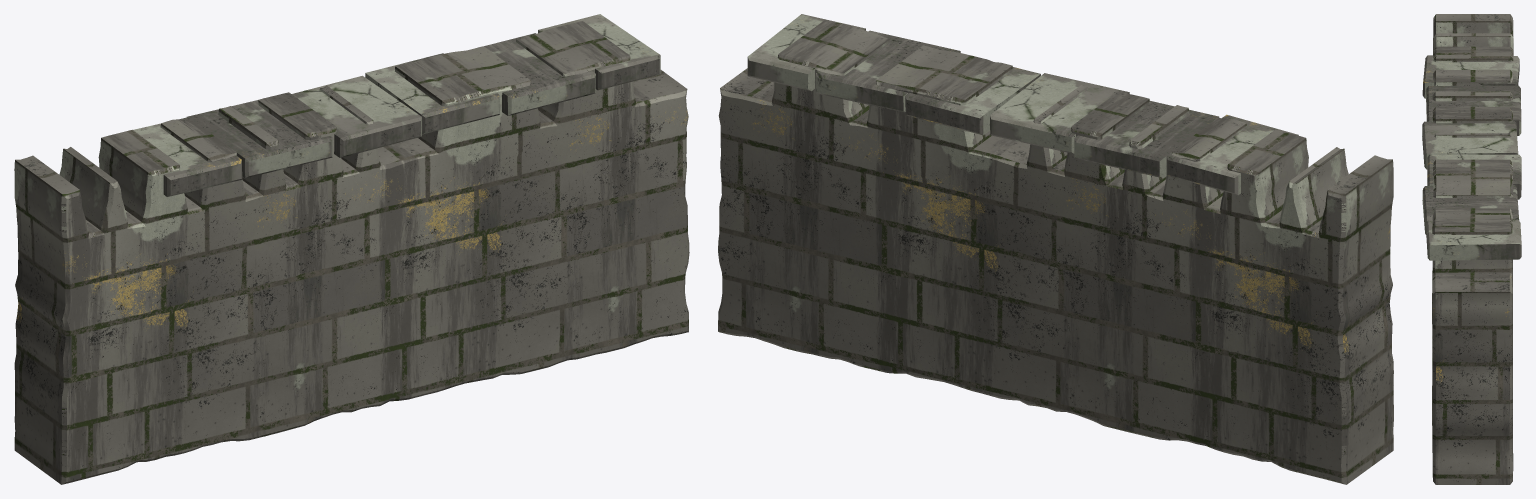
File: Wall_A.gltf
3 renders of one model, left to right at view 1: azimuth 30°, elevation 25°; view 2: azimuth 150°, elevation 25°; view 3: azimuth 270°, elevation 25°, orthographic. The views are drawn at different scales.
Parts seen in each view (by area): view 1: Wall_A; view 2: Wall_A; view 3: Wall_A.
Part boxes in pixels (box(x1,y1,x2,y2)): Wall_A: box(14, 14, 689, 484); Wall_A: box(718, 14, 1393, 484); Wall_A: box(1422, 14, 1521, 484).
Size of the model in its own units: 4.01 by 1.79 by 0.6975.
2 materials, 2 textured.
